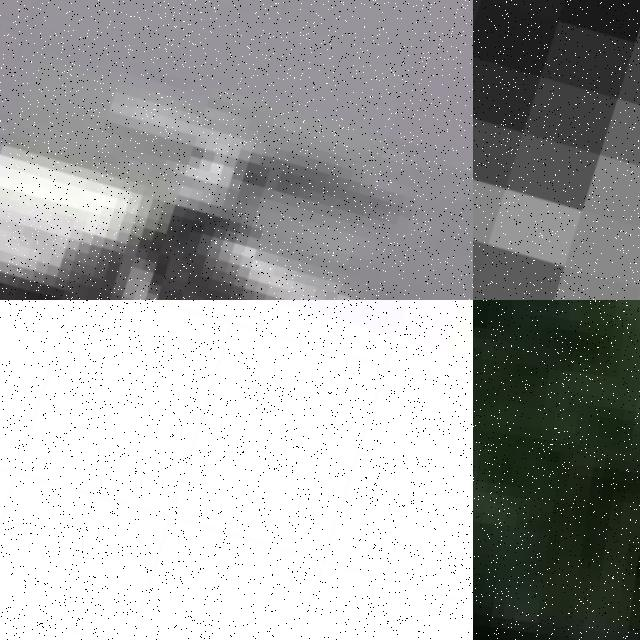drone: (0, 300, 473, 640), (0, 0, 473, 300), (473, 0, 640, 300)
